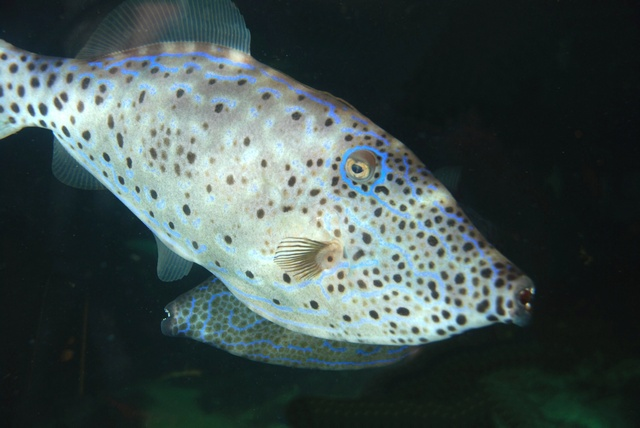Aluterus_scriptus: (1, 4, 546, 375)
